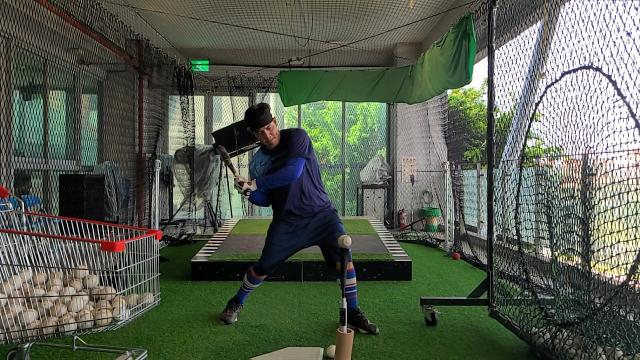baseball bat: (214, 142, 238, 176)
sports ball: (338, 234, 352, 250)
